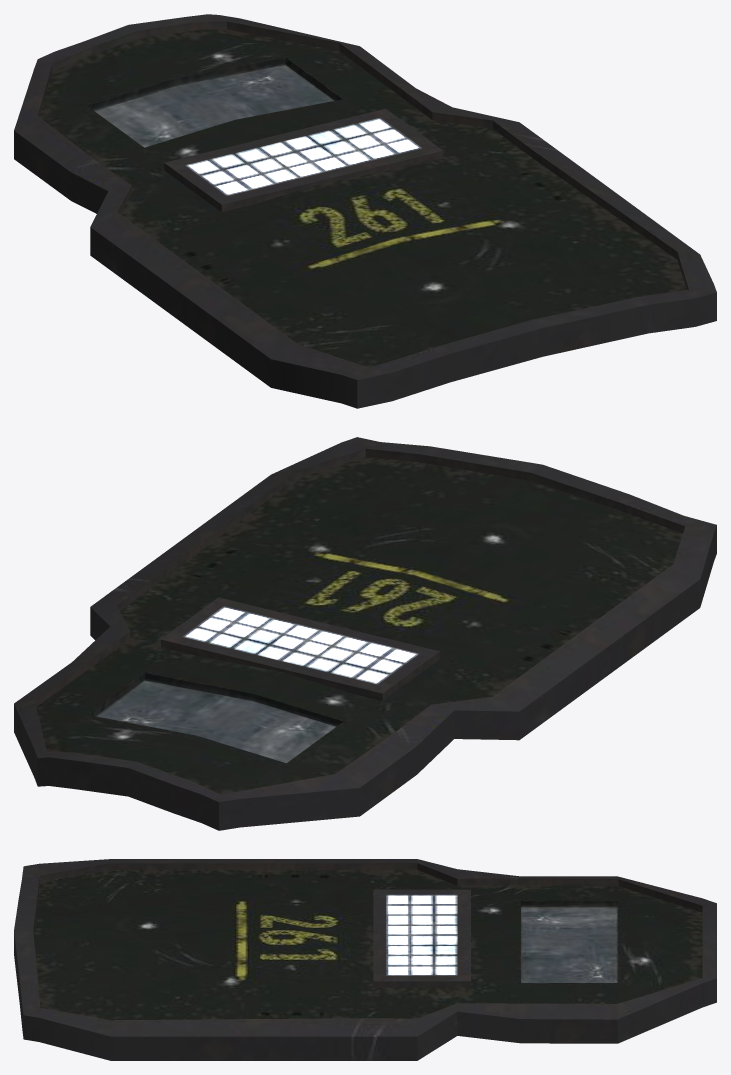
Rendered from item.shield.sentinel.glb.
3 renders of one model, top to bottom at view 1: azimuth 30°, elevation 25°; view 2: azimuth 150°, elevation 25°; view 3: azimuth 270°, elevation 25°, orthographic. The views are drawn at different scales.
Visible parts, largest first — view 1: shield_low; view 2: shield_low; view 3: shield_low.
Part boxes in pixels (x1,y1,x2,y2): shield_low: [14, 14, 716, 408]; shield_low: [14, 437, 716, 830]; shield_low: [14, 859, 716, 1060].
Bounding box in the file's own units: 0.7176 × 0.1117 × 1.2.
1 material, 1 textured.
